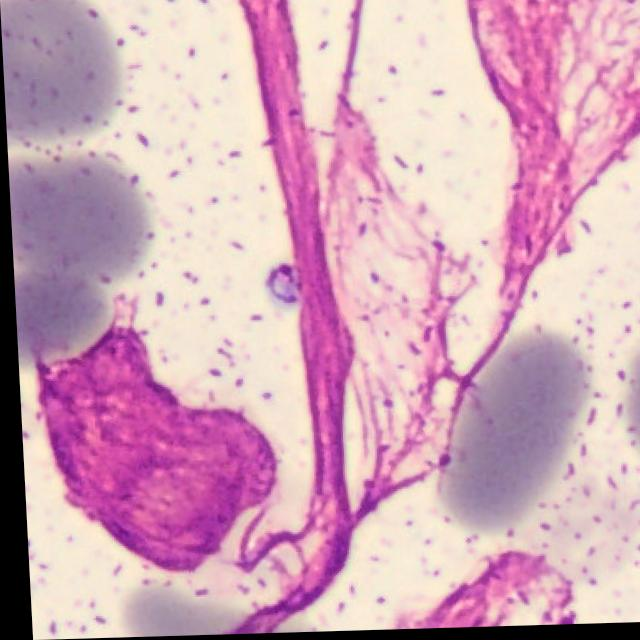Artefato: (225, 0, 640, 609)
Restos celulares: (31, 321, 273, 574)
